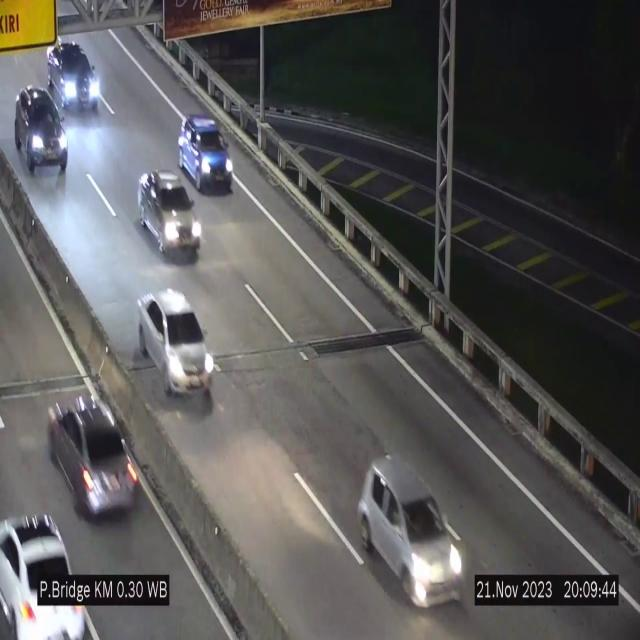Car: (357, 456, 467, 606), (46, 382, 144, 516), (0, 492, 81, 640), (139, 289, 213, 406), (138, 170, 202, 259), (11, 90, 71, 178), (47, 31, 97, 121), (178, 116, 233, 192)
